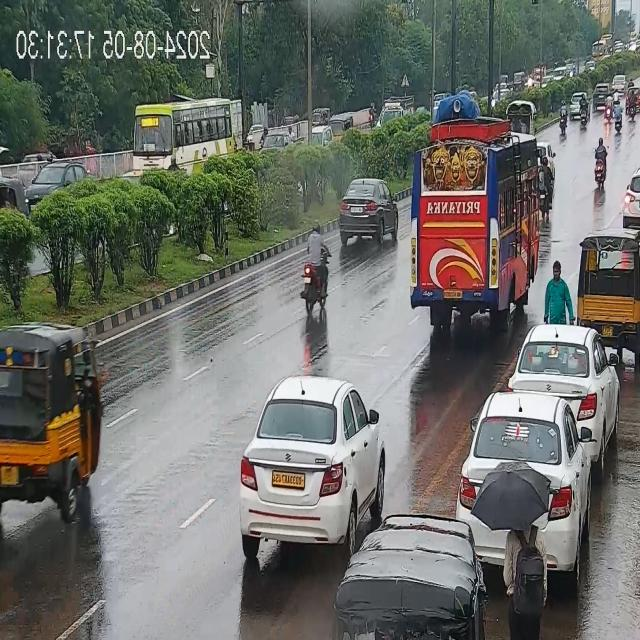2-wheelers: (301, 223, 327, 308), (538, 158, 554, 218), (604, 88, 622, 128), (595, 139, 608, 187), (579, 92, 587, 125), (560, 102, 567, 134)
auto: (574, 230, 640, 337), (0, 170, 18, 226)
bus: (409, 106, 555, 338), (129, 100, 241, 182)
car: (230, 375, 378, 551), (457, 396, 595, 524), (510, 325, 616, 439), (335, 186, 398, 246)
pedestrian: (500, 515, 548, 632), (540, 264, 570, 324)
truck: (0, 321, 102, 510)
